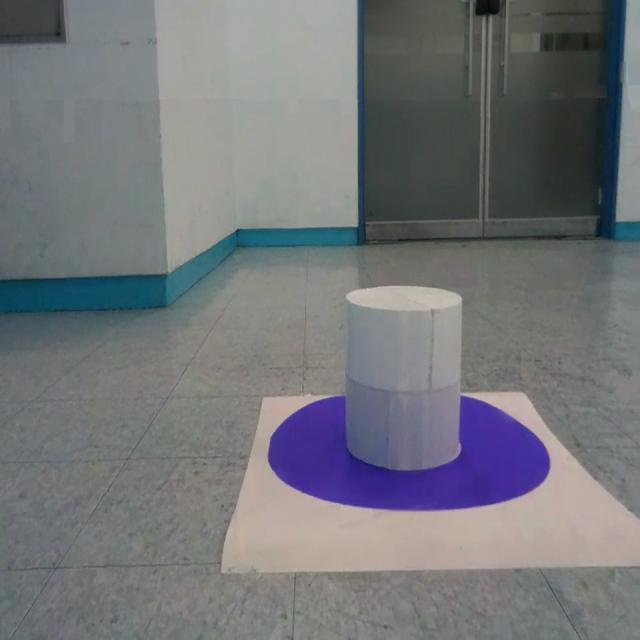cylinder: (344, 284, 464, 470)
